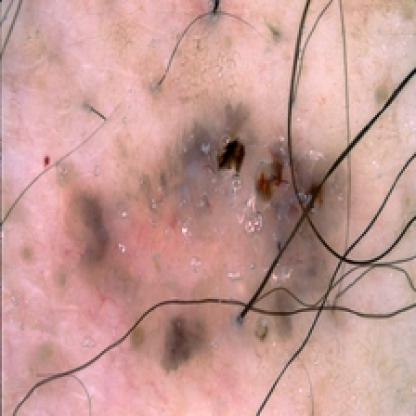malignant: (89, 98, 349, 360)
